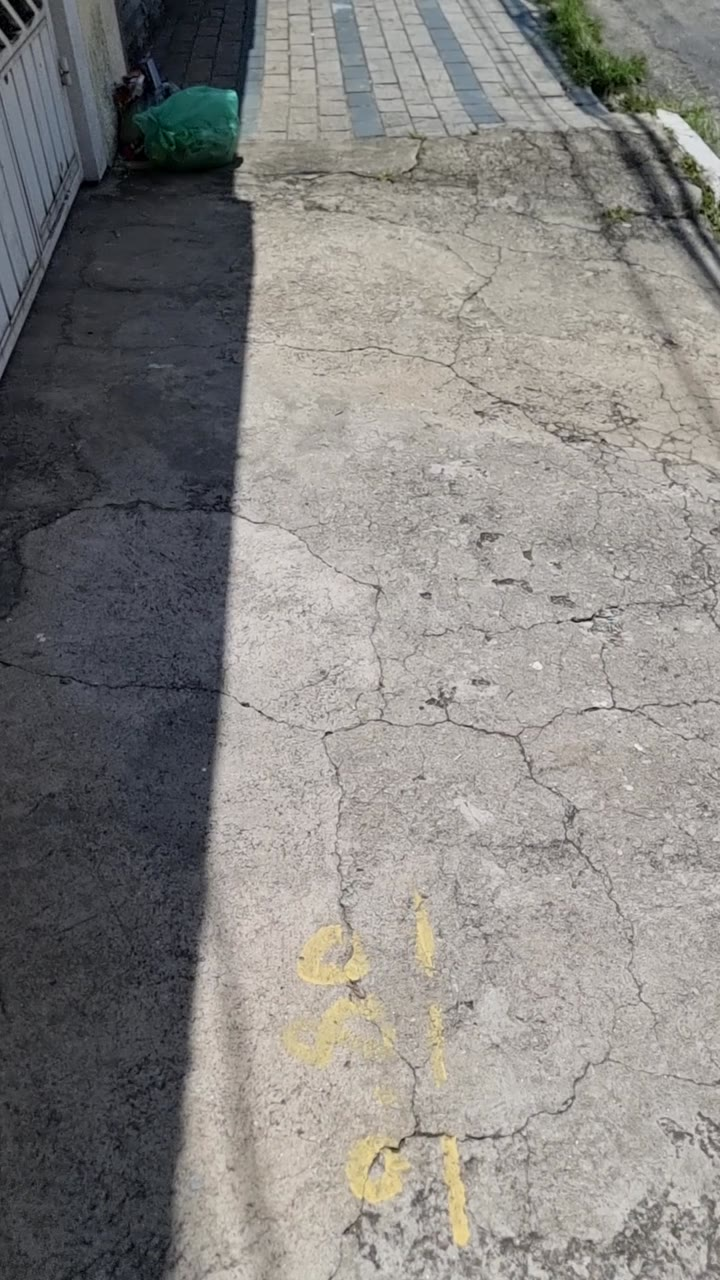obstaculo: (136, 87, 239, 170)
